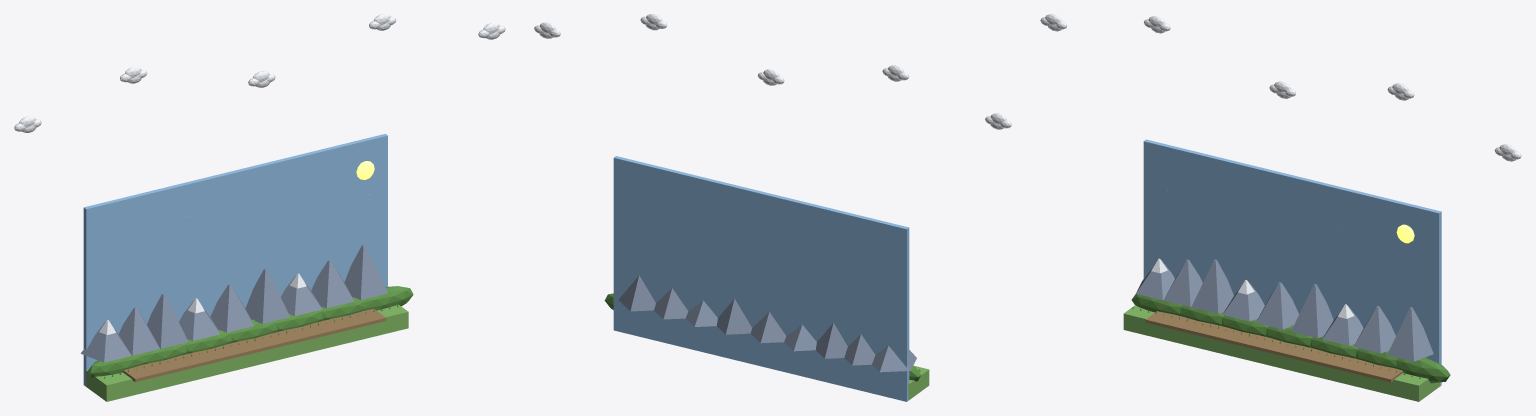
The model's file is battlefield.glb.
The picture shows the model from 3 angles, left to right: view 1: azimuth 30°, elevation 25°; view 2: azimuth 150°, elevation 25°; view 3: azimuth 330°, elevation 25°; orthographic projection. The views are drawn at different scales.
Visible parts, largest first — view 1: Sky, Ground, Lane, Mountain_05, Mountain_08, Mountain_02, Mountain_04, Mountain_07, Mountain_01, Mountain_00, Mountain_03, Mountain_06 (+7 smaller); view 2: Sky, Mountain_08, Mountain_05, Mountain_02, Mountain_00, Mountain_04, Mountain_07, Mountain_01, Mountain_03, Mountain_06, Ground; view 3: Sky, Ground, Lane, Mountain_08, Mountain_02, Mountain_05, Mountain_04, Mountain_07, Mountain_01, Mountain_03, Hill_06, Mountain_06 (+7 smaller).
Boxes of the visible parts, x1,y1,x2,y2 form: Sky: (83, 134, 387, 386); Ground: (86, 304, 408, 401); Lane: (123, 309, 386, 381); Mountain_05: (245, 268, 289, 323); Mountain_08: (344, 244, 387, 299); Mountain_02: (147, 293, 188, 348); Mountain_04: (210, 284, 254, 332); Mountain_07: (311, 259, 354, 308); Mountain_01: (118, 307, 159, 355); Mountain_00: (81, 321, 131, 362); Mountain_03: (179, 299, 220, 340); Mountain_06: (280, 274, 322, 315); Sky: (613, 156, 909, 401); Mountain_08: (618, 275, 655, 311); Mountain_05: (717, 298, 751, 334); Mountain_02: (816, 323, 847, 358); Mountain_00: (872, 345, 916, 372); Mountain_04: (750, 312, 786, 343); Mountain_07: (654, 288, 688, 319); Mountain_01: (844, 334, 875, 365); Mountain_03: (784, 324, 816, 351); Mountain_06: (685, 300, 717, 326); Ground: (908, 365, 929, 400); Sky: (1143, 139, 1441, 386); Ground: (1123, 305, 1439, 401); Lane: (1145, 311, 1403, 382); Mountain_08: (1387, 307, 1433, 361); Mountain_02: (1191, 259, 1233, 313); Mountain_05: (1291, 284, 1333, 338); Mountain_04: (1256, 282, 1298, 329); Mountain_07: (1354, 306, 1395, 353); Mountain_01: (1163, 259, 1202, 306); Mountain_03: (1222, 281, 1264, 321); Hill_06: (1396, 357, 1450, 383); Mountain_06: (1322, 305, 1363, 345).
Size of the model in its own units: 26 by 16.45 by 3.23.
